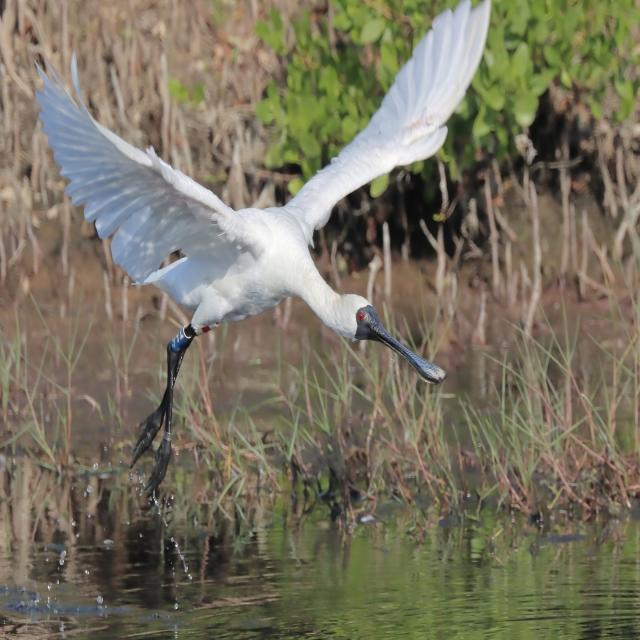Black-faced spoonbill: (37, 0, 490, 492)
